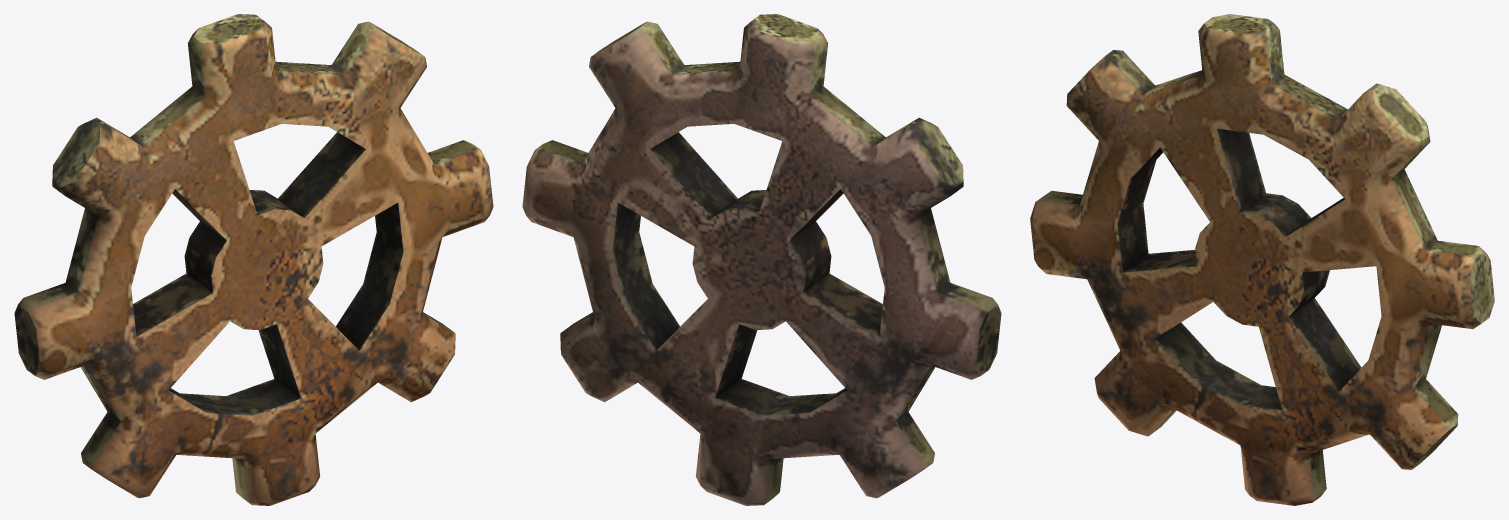
Rendered from EngranajePequeno.obj.
3 views of the same model, side by side, from view 1: azimuth 30°, elevation 25°; view 2: azimuth 150°, elevation 25°; view 3: azimuth 330°, elevation 25° (orthographic). The views are drawn at different scales.
Parts seen in each view (by area): view 1: mediano_Material_#3; view 2: mediano_Material_#3; view 3: mediano_Material_#3.
Boxes of the visible parts, box(x1,y1,x2,y2) form: mediano_Material_#3: box(14, 14, 493, 505); mediano_Material_#3: box(522, 14, 1001, 505); mediano_Material_#3: box(1030, 14, 1494, 505).
Size of the model in its own units: 4.38 by 4.38 by 0.4415.
